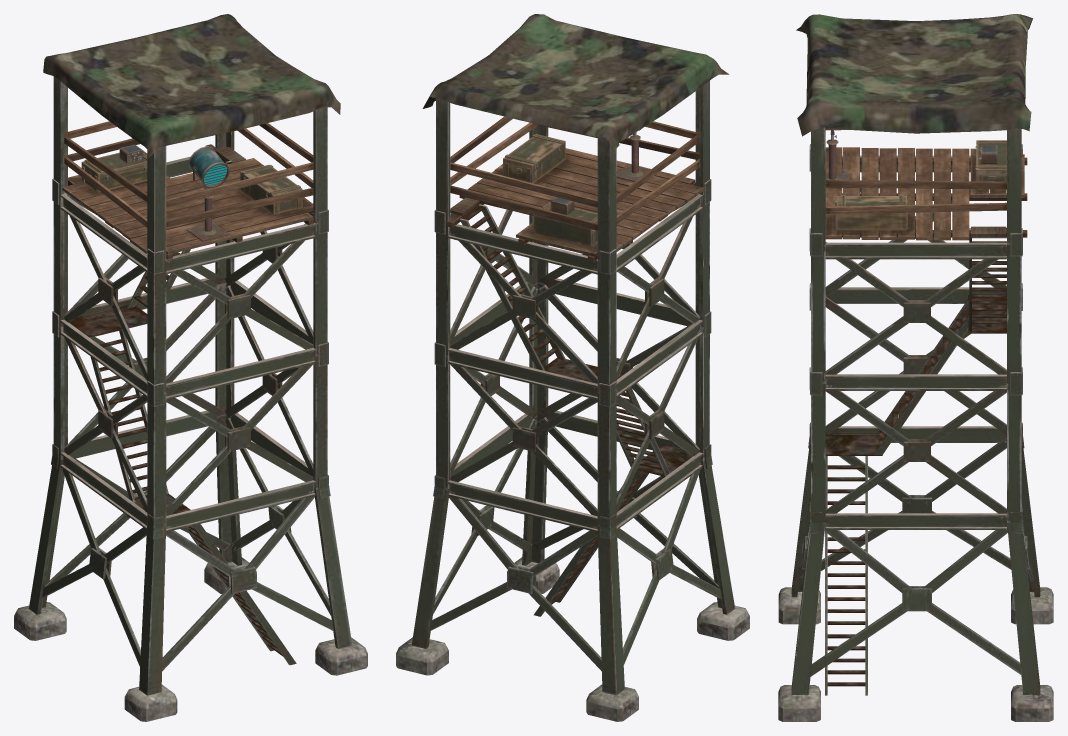
Rendered from SM_GuardTower.glb.
3 views of the same model, side by side, from view 1: azimuth 30°, elevation 25°; view 2: azimuth 150°, elevation 25°; view 3: azimuth 270°, elevation 25° (orthographic). The views are drawn at different scales.
Visible parts, largest first — view 1: military searchlight_Material #0_0; view 2: military searchlight_Material #0_0; view 3: military searchlight_Material #0_0.
Part boxes in pixels (box(x1,y1,x2,y2)): military searchlight_Material #0_0: box(14, 14, 367, 721); military searchlight_Material #0_0: box(396, 14, 749, 721); military searchlight_Material #0_0: box(778, 14, 1053, 721).
Size of the model in its own units: 518 by 1261 by 518.
Materials: 1 (1 with a texture image).
